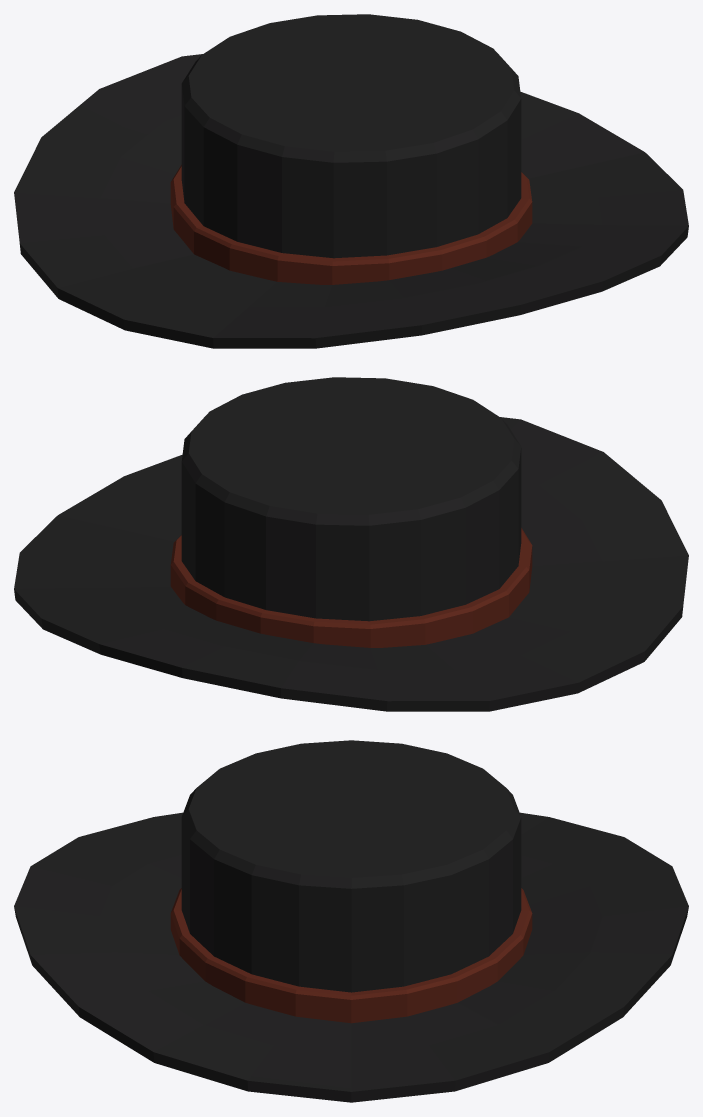
The model's file is Hat B-col.glb.
3 views of the same model, one above another, from view 1: azimuth 30°, elevation 25°; view 2: azimuth 150°, elevation 25°; view 3: azimuth 270°, elevation 25° (orthographic).
Visible parts, largest first — view 1: Hat B-col; view 2: Hat B-col; view 3: Hat B-col.
Part boxes in pixels (left/top/right/bottom): Hat B-col: left=14, top=14, right=688, bottom=348; Hat B-col: left=14, top=377, right=688, bottom=711; Hat B-col: left=14, top=740, right=688, bottom=1102.
Size of the model in its own units: 0.5706 by 0.1419 by 0.5706.
